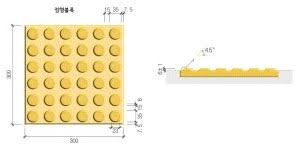block(point type): (24, 25, 123, 124)
